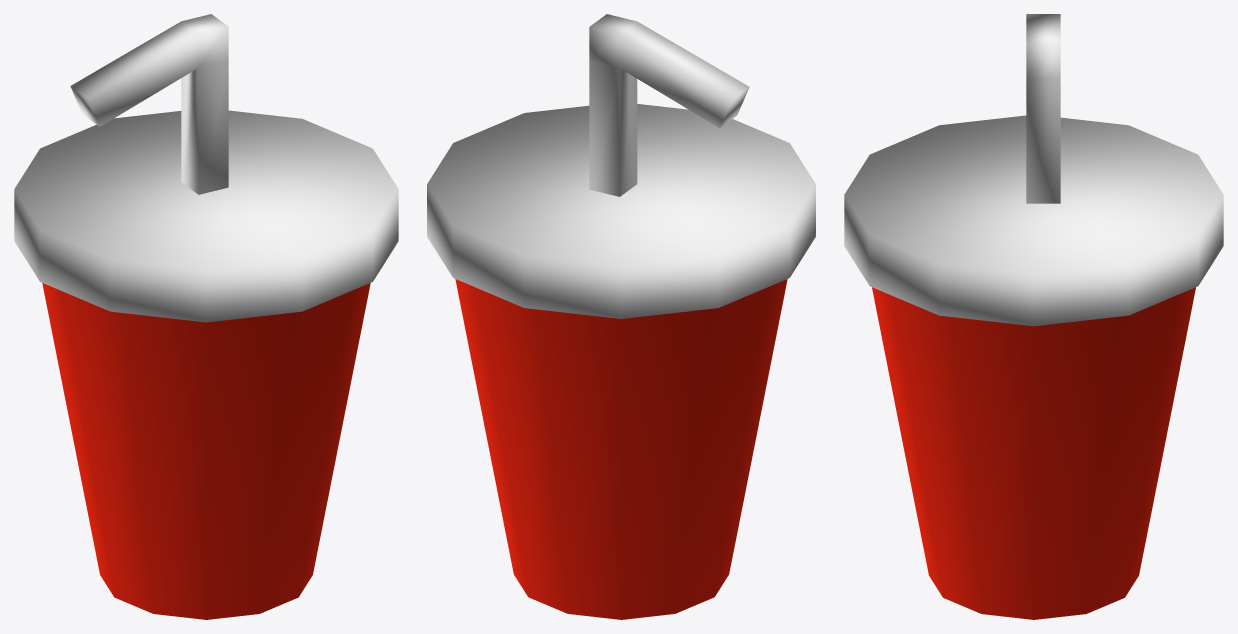
Rendered from red_cup.glb.
3 renders of one model, left to right at view 1: azimuth 30°, elevation 25°; view 2: azimuth 150°, elevation 25°; view 3: azimuth 270°, elevation 25°, orthographic. The views are drawn at different scales.
Visible parts, largest first — view 1: Red_Cup; view 2: Red_Cup; view 3: Red_Cup.
Part boxes in pixels (bbox=[...]): Red_Cup: bbox=[14, 14, 398, 619]; Red_Cup: bbox=[427, 14, 815, 619]; Red_Cup: bbox=[844, 14, 1223, 619].
Size of the model in its own units: 0.436 by 0.6843 by 0.436.
Materials: 1 (1 with a texture image).
